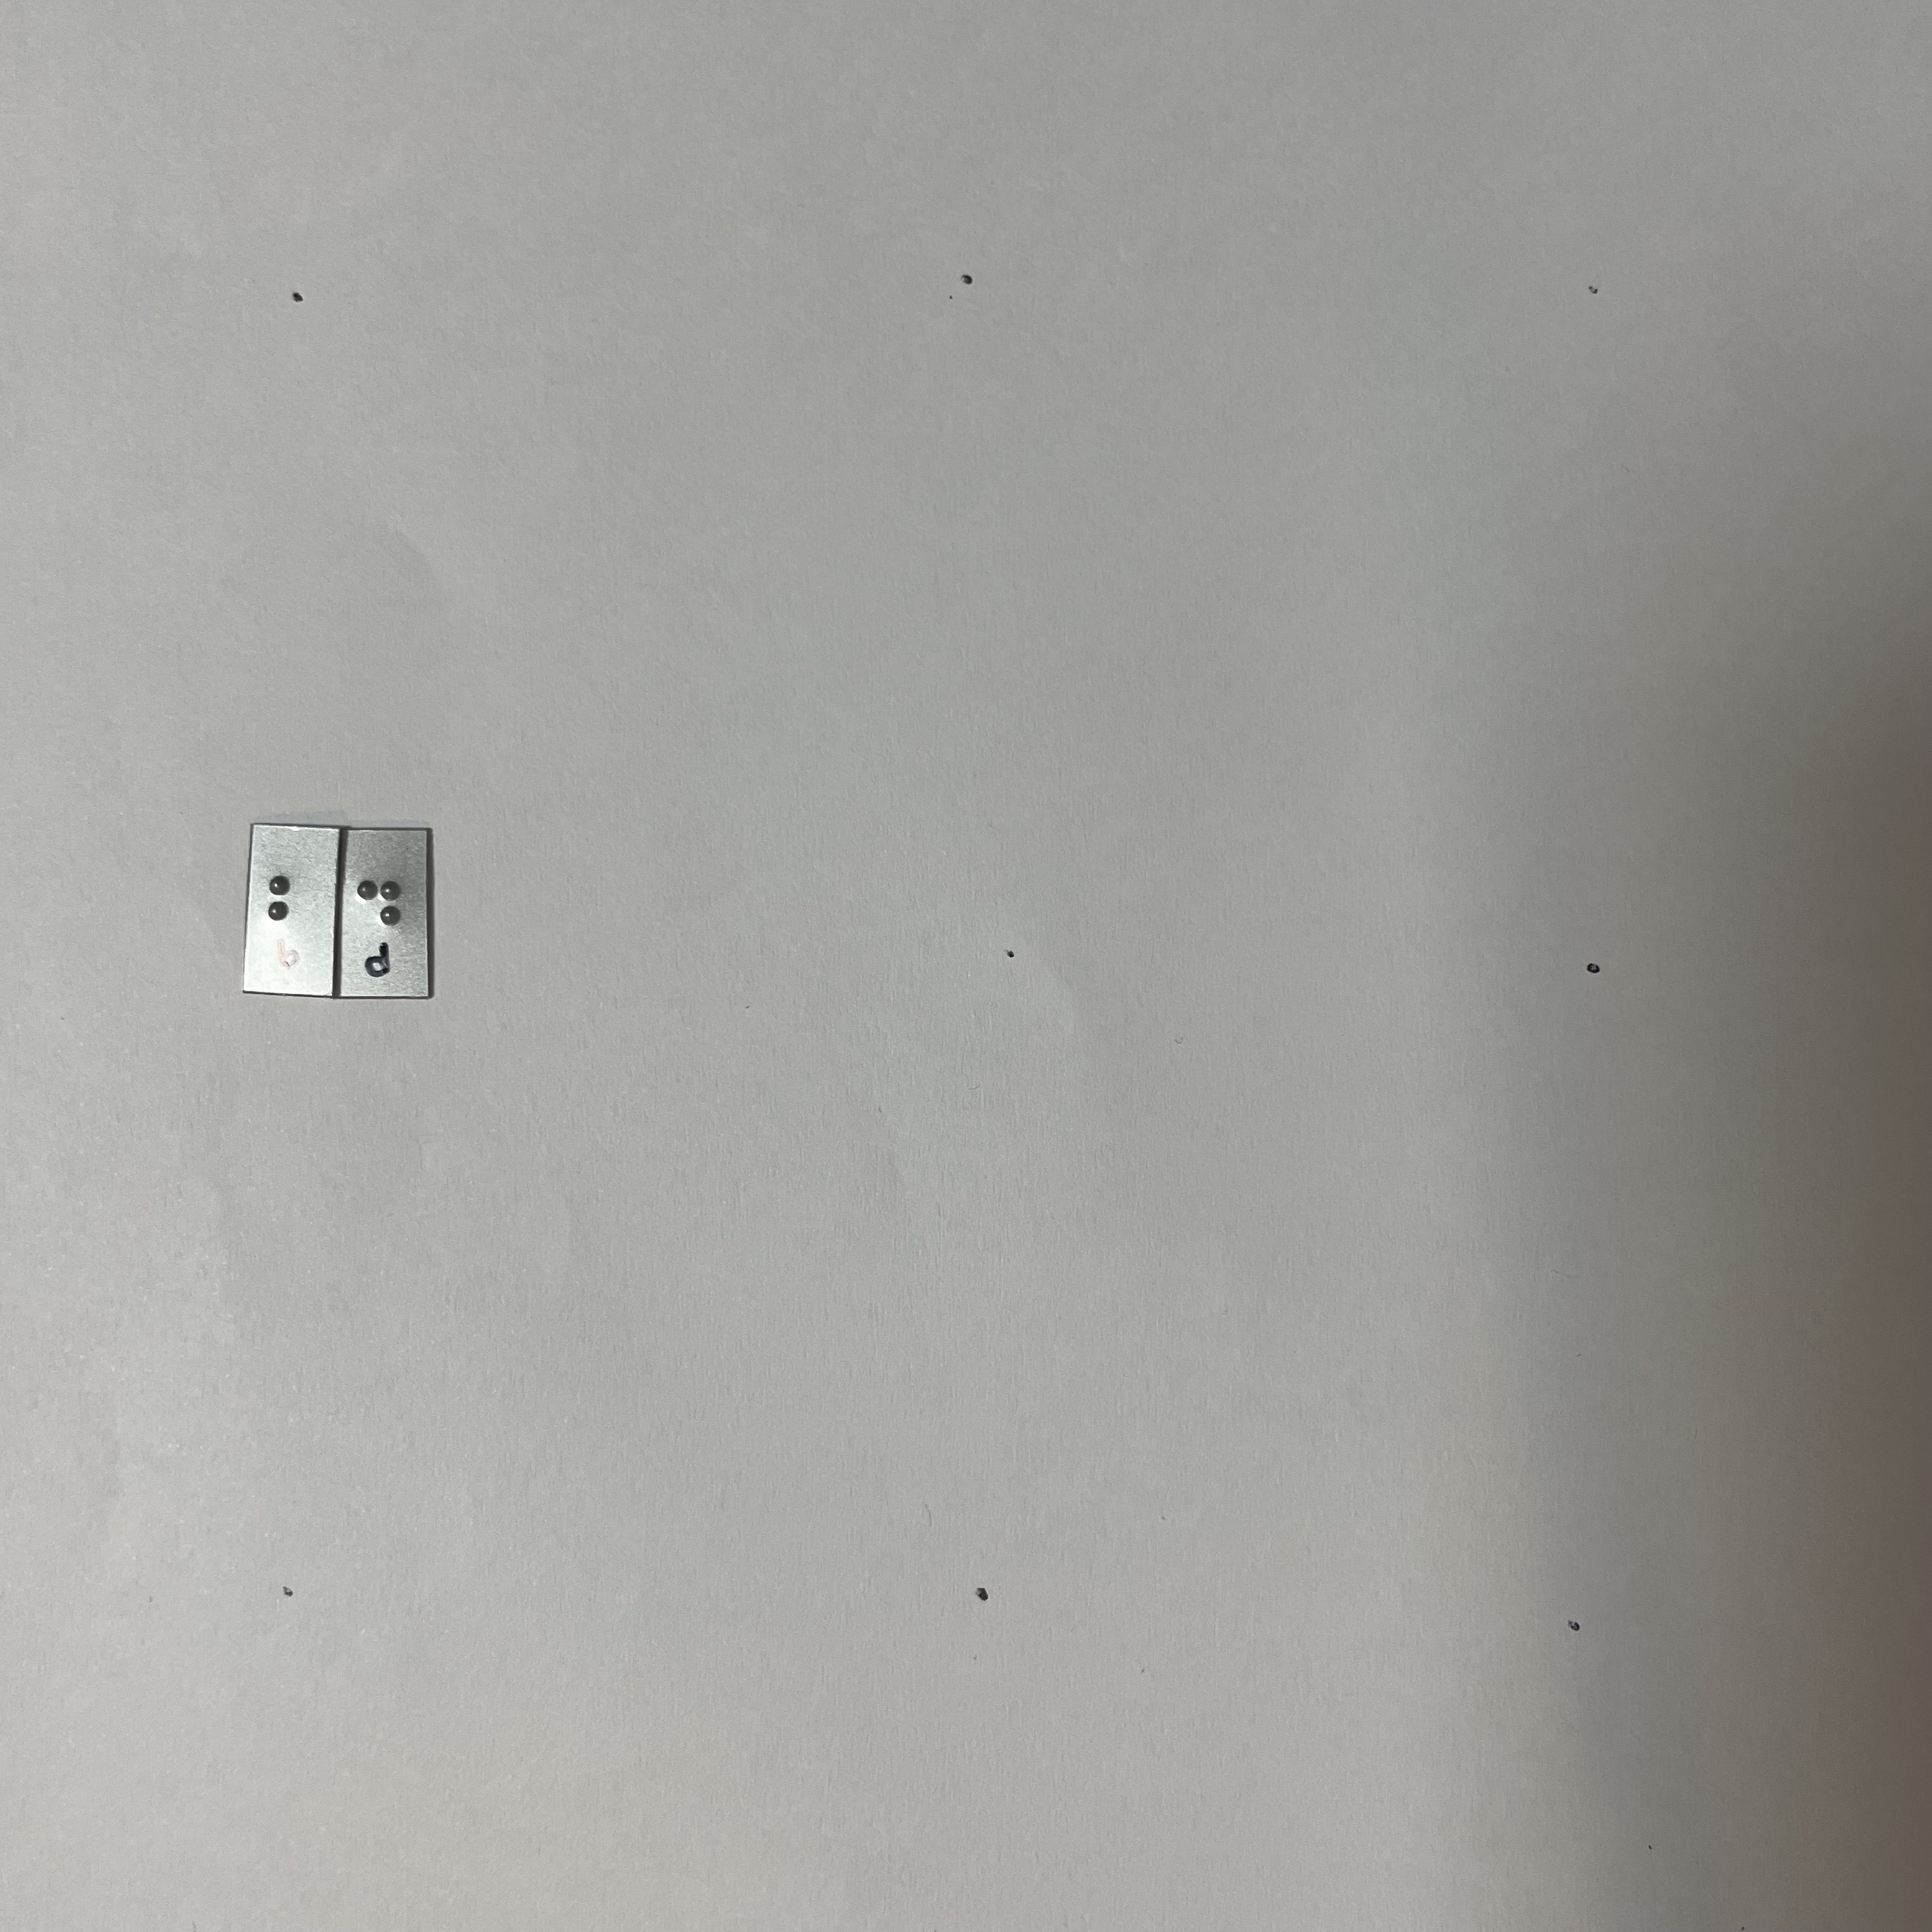b: (258, 861, 320, 940)
d: (355, 866, 413, 940)
